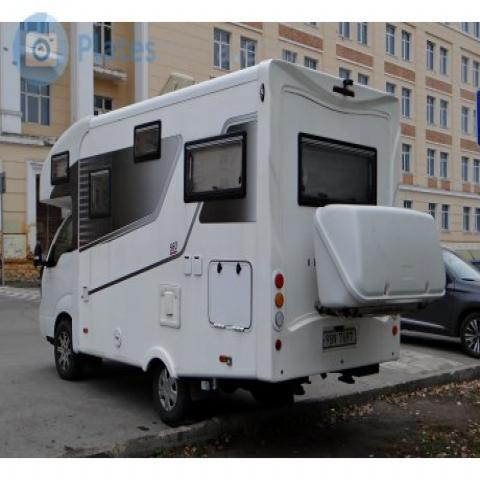LP: (319, 322, 362, 351)
